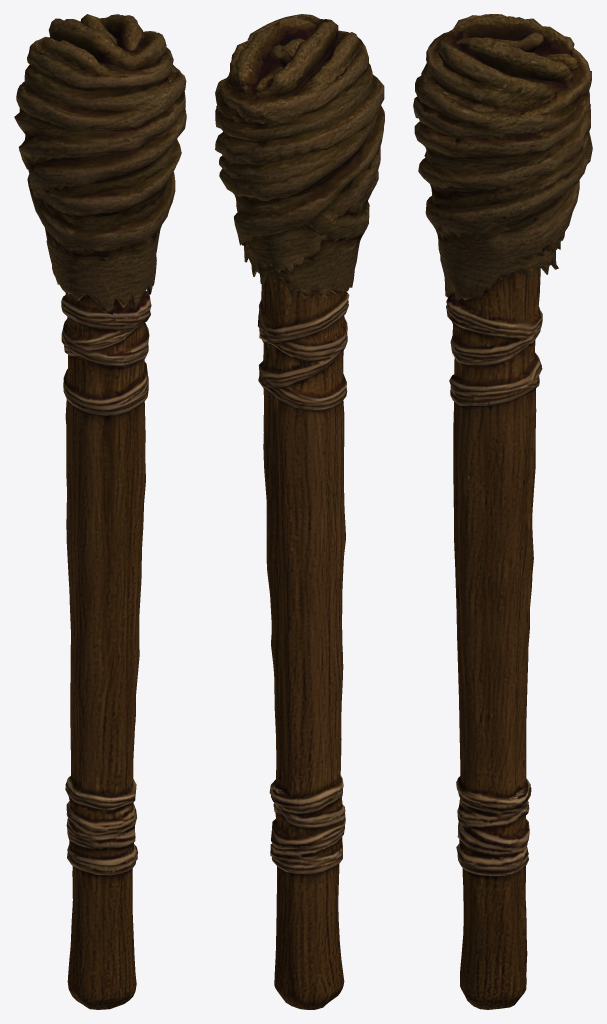
File: Torch_handheld.fbx
3 renders of one model, left to right at view 1: azimuth 30°, elevation 25°; view 2: azimuth 150°, elevation 25°; view 3: azimuth 270°, elevation 25°, orthographic.
Parts seen in each view (by area): view 1: Torch_handheld; view 2: Torch_handheld; view 3: Torch_handheld.
Part boxes in pixels (x1,y1,x2,y2): Torch_handheld: [14, 14, 186, 1009]; Torch_handheld: [215, 14, 384, 1009]; Torch_handheld: [413, 14, 592, 1009].
Bounding box in the file's own units: 15.52 × 98.52 × 16.33.
Materials: 1 (1 with a texture image).
